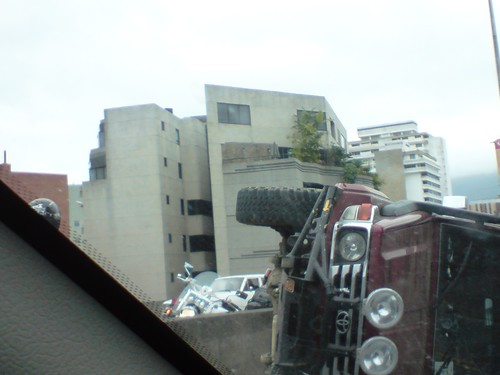building: (204, 84, 347, 279), (80, 100, 207, 308), (352, 124, 452, 210)
car: (240, 168, 500, 375)
sky: (1, 1, 500, 96)
